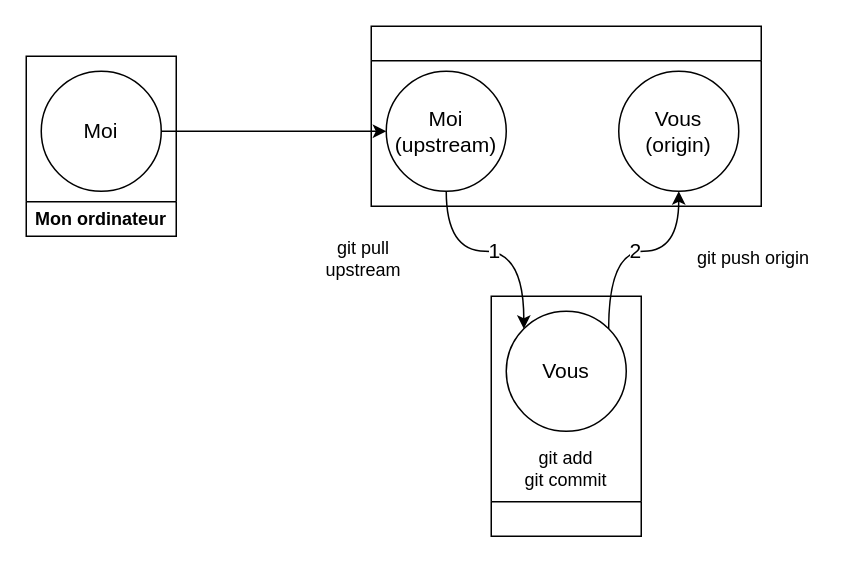
Image size: 848x563. Some labels were removed from this diagram. Each missing label, with the centre of its shape:
"GitHub" goes at (565,115).
"Votre ordinateur" goes at (565,415).
